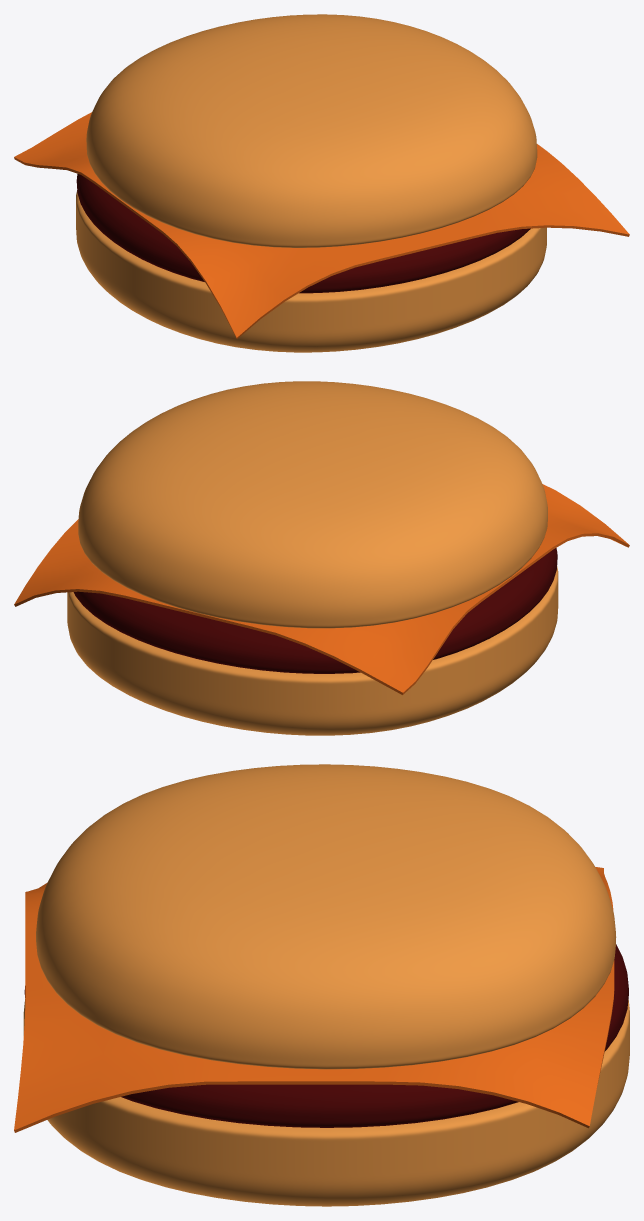
File: cheeseborger.glb
3 renders of one model, top to bottom at view 1: azimuth 30°, elevation 25°; view 2: azimuth 150°, elevation 25°; view 3: azimuth 270°, elevation 25°, orthographic. The views are drawn at different scales.
Visible parts, largest first — view 1: Cube.002, Cube, Plane, Cube.001; view 2: Cube.002, Cube, Plane, Cube.001; view 3: Cube.002, Cube, Plane, Cube.001.
Part boxes in pixels (bbox=[...]): Cube.002: bbox=[86, 14, 537, 247]; Cube: bbox=[76, 190, 546, 352]; Plane: bbox=[14, 112, 629, 338]; Cube.001: bbox=[76, 174, 530, 293]; Cube.002: bbox=[78, 381, 547, 628]; Cube: bbox=[67, 566, 558, 735]; Plane: bbox=[14, 484, 629, 694]; Cube.001: bbox=[73, 548, 557, 673]; Cube.002: bbox=[36, 764, 616, 1069]; Cube: bbox=[23, 998, 629, 1206]; Plane: bbox=[14, 867, 614, 1132]; Cube.001: bbox=[24, 944, 628, 1127].
Size of the model in its own units: 10.79 by 5.52 by 10.96.
